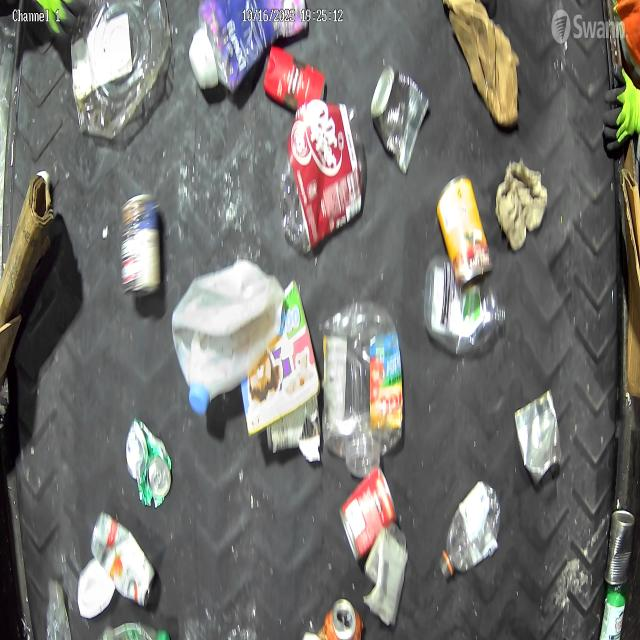can: (435, 172, 494, 294), (370, 63, 431, 177), (338, 462, 398, 563), (513, 389, 563, 486), (125, 416, 174, 509), (604, 506, 636, 588), (316, 593, 365, 640)
milk_jug: (171, 256, 286, 418)
plastic_bottle: (422, 253, 506, 357), (438, 476, 503, 583)
